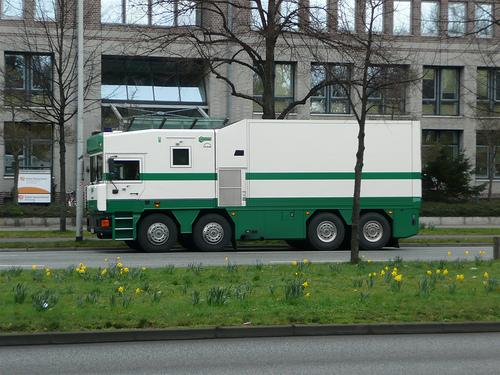truck: (81, 119, 425, 253)
